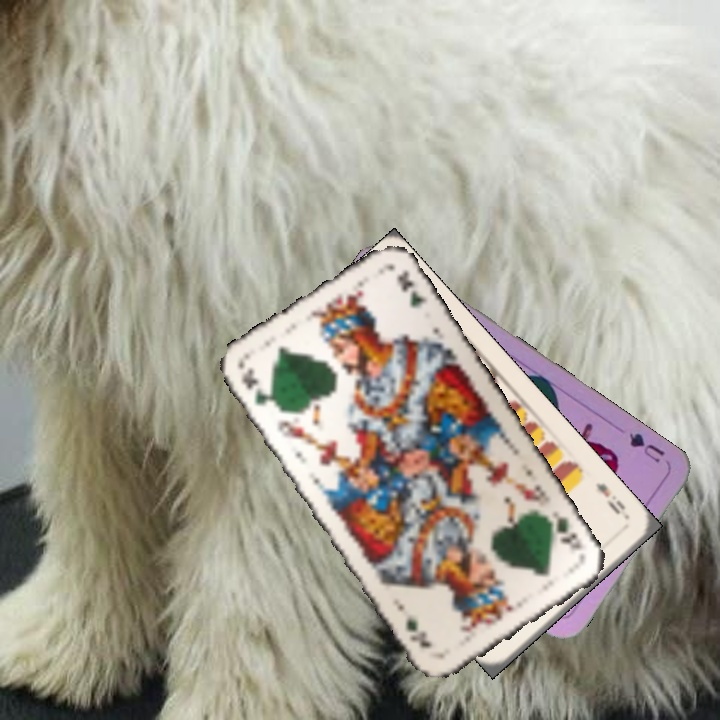E9: (591, 478, 632, 522)
GK: (236, 364, 281, 412), (542, 507, 584, 554)
GU: (625, 429, 667, 466)
